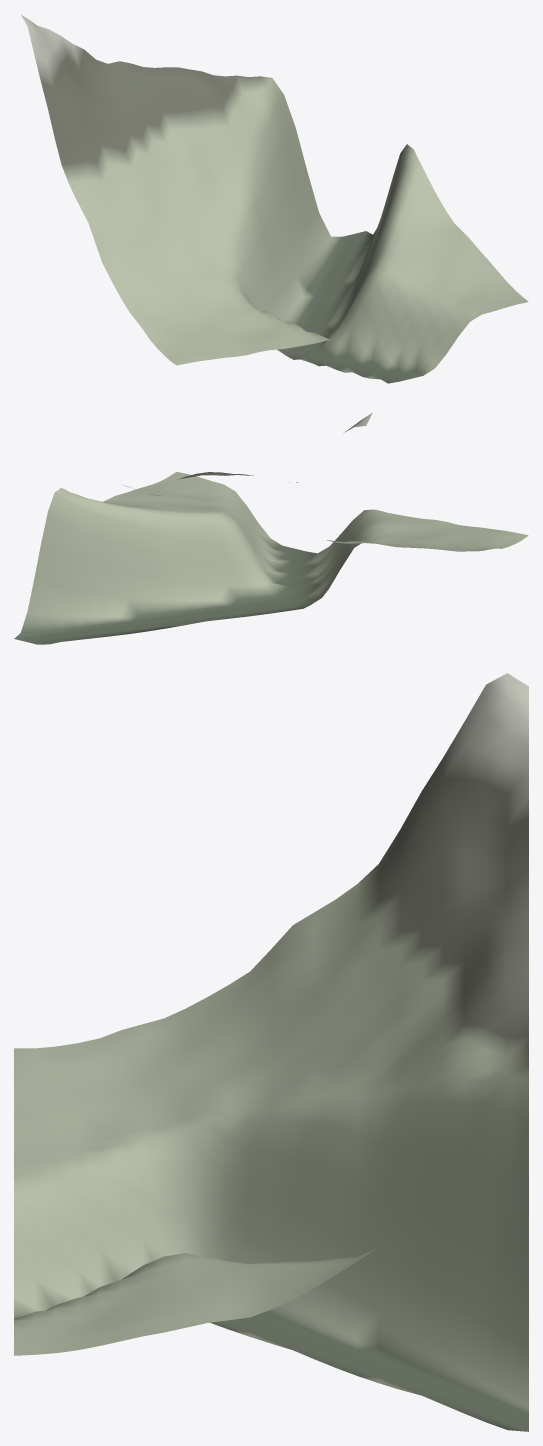
3 views of the same model, one above another, from view 1: azimuth 30°, elevation 25°; view 2: azimuth 150°, elevation 25°; view 3: azimuth 270°, elevation 25° (orthographic). The views are drawn at different scales.
Parts seen in each view (by area): view 1: world-ground/120-24; view 2: world-ground/120-24; view 3: world-ground/120-24.
Part boxes in pixels (x1,y1,x2,y2): world-ground/120-24: [21, 14, 528, 383]; world-ground/120-24: [14, 412, 528, 644]; world-ground/120-24: [14, 673, 528, 1431].
Bounding box in the file's own units: 37.5 × 31.29 × 30.
